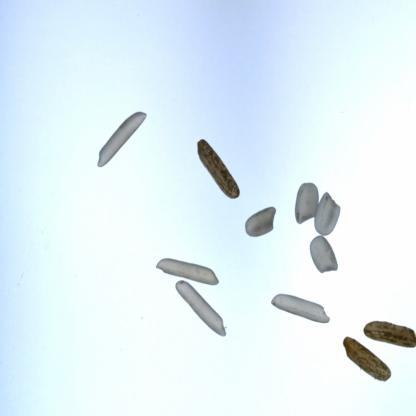Full: (80, 100, 147, 184), (178, 135, 241, 212), (166, 282, 222, 360), (336, 330, 396, 381), (263, 287, 327, 329), (143, 258, 217, 292), (353, 303, 416, 341), (236, 203, 282, 246), (294, 231, 334, 275), (308, 186, 341, 236), (287, 178, 316, 226)
